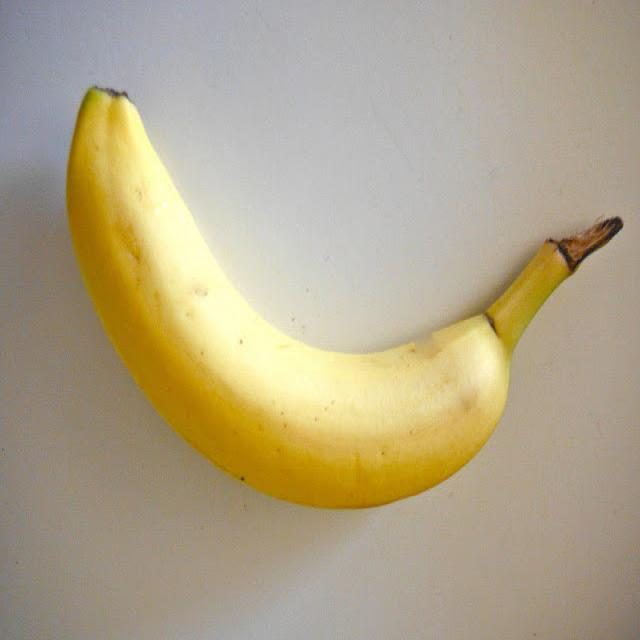Banana: (66, 88, 621, 517)
